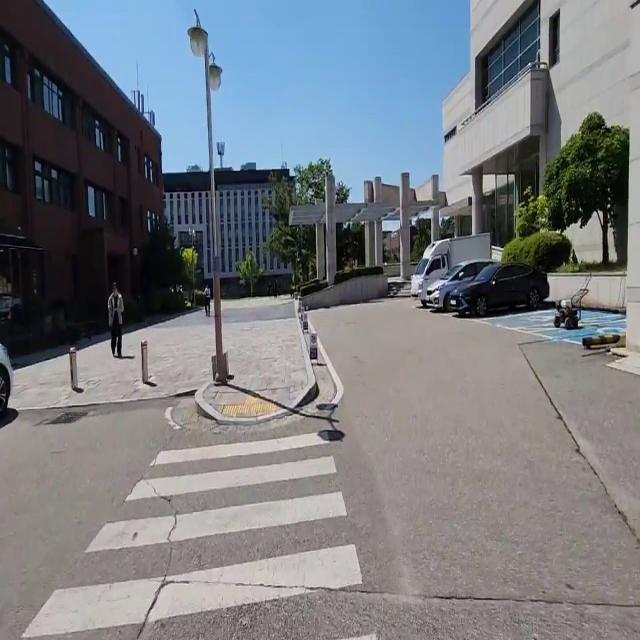car: (408, 227, 497, 312), (447, 260, 550, 315), (425, 265, 497, 313)
human: (102, 276, 129, 363)
streetlamp: (183, 6, 244, 390)
